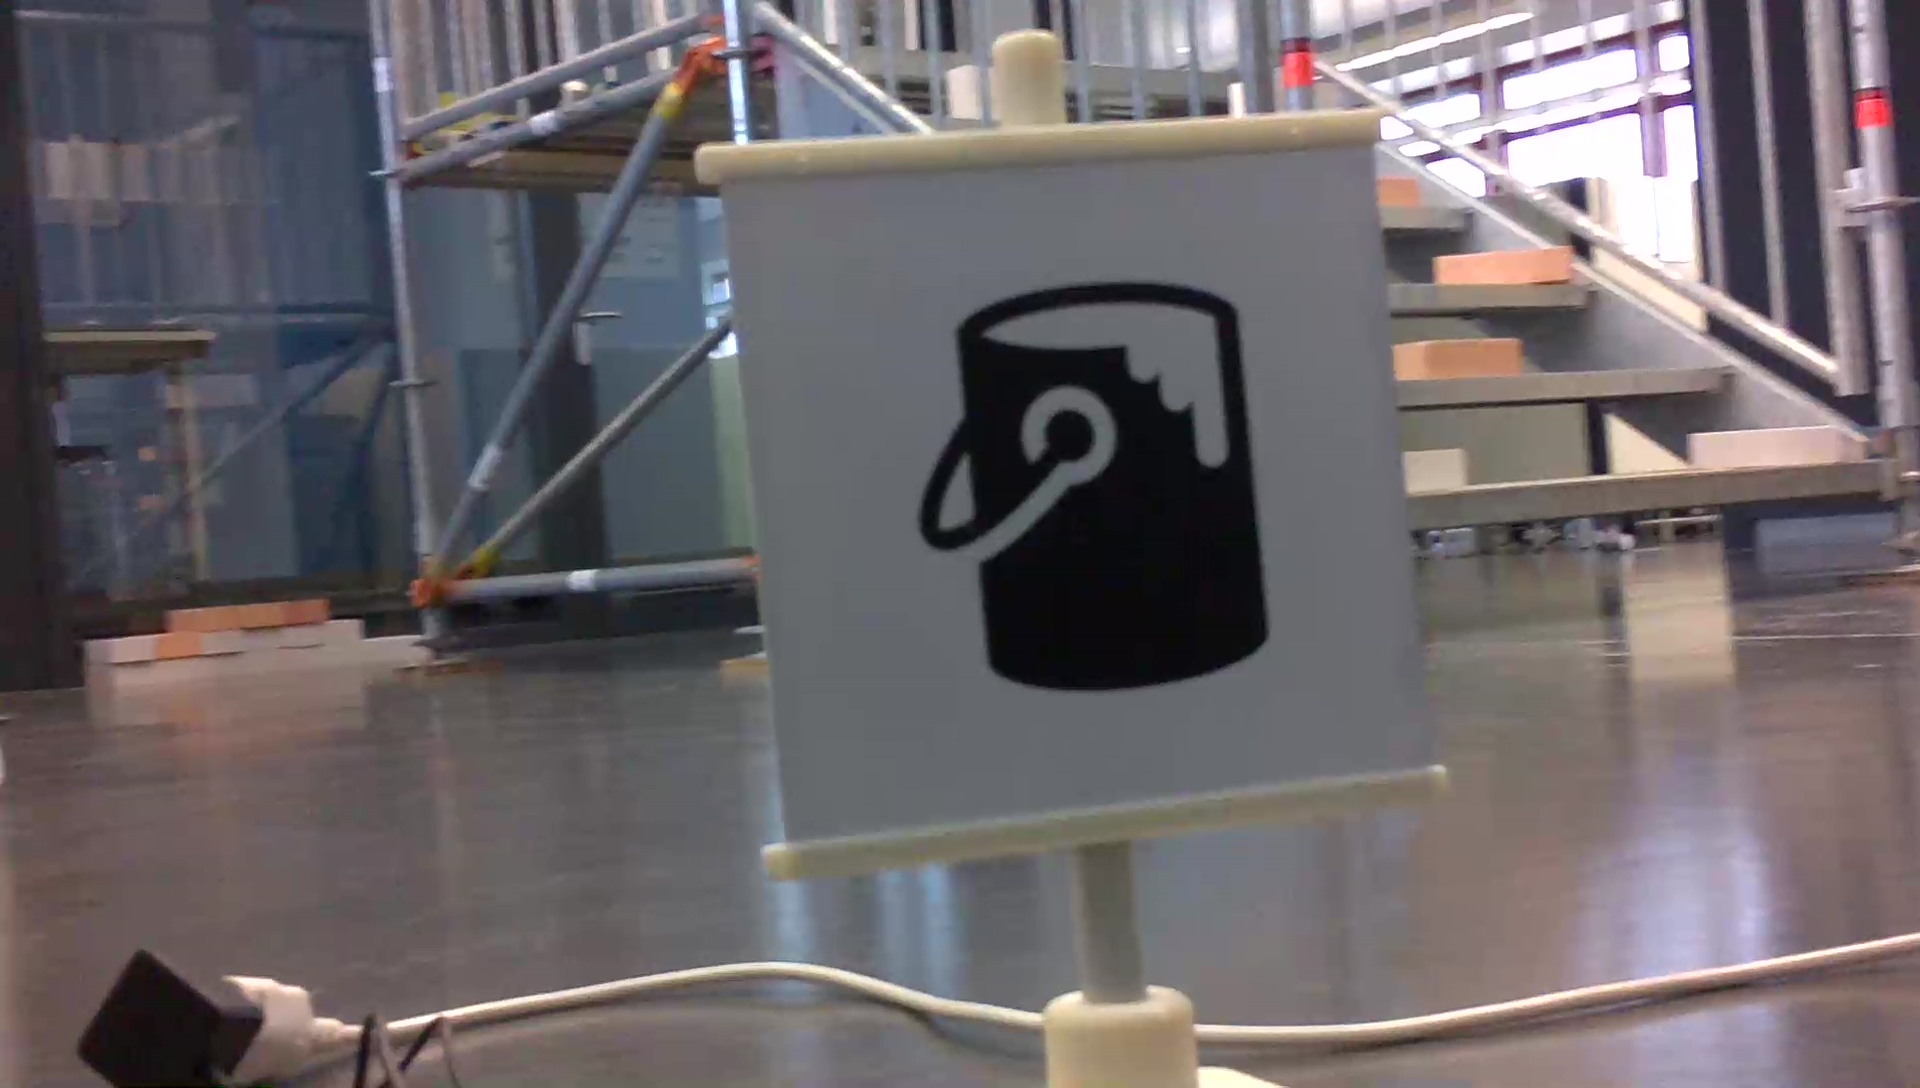brick: (1689, 430, 1836, 466), (1435, 245, 1572, 282), (1393, 338, 1519, 375), (1407, 450, 1462, 491), (1378, 178, 1415, 204)
bucket: (913, 270, 1279, 706)
edge: (1414, 463, 1884, 528), (1395, 368, 1735, 405), (1385, 280, 1597, 309)
